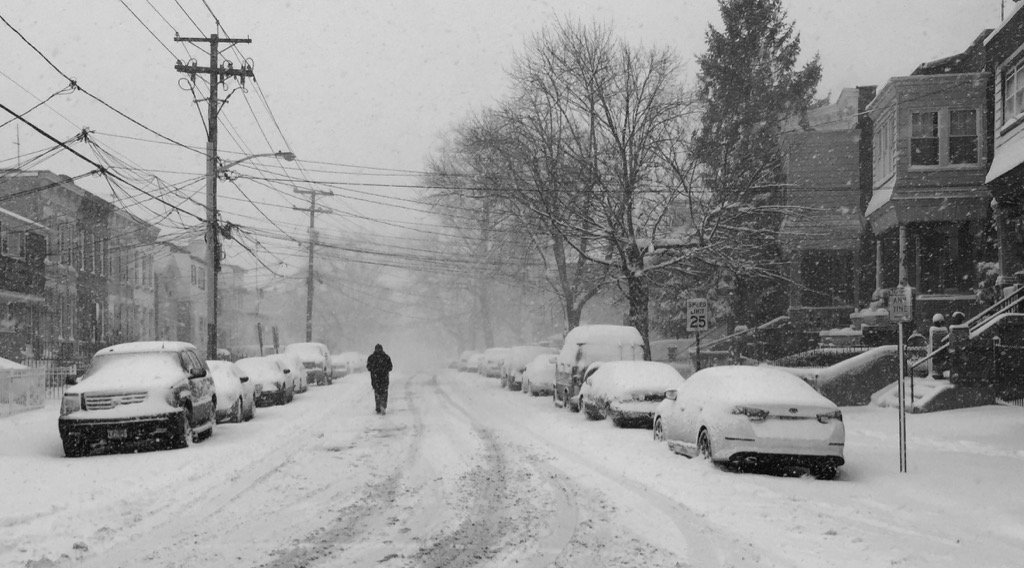car: (651, 365, 849, 475), (59, 342, 216, 454), (579, 362, 675, 424)
person: (366, 339, 397, 415)
